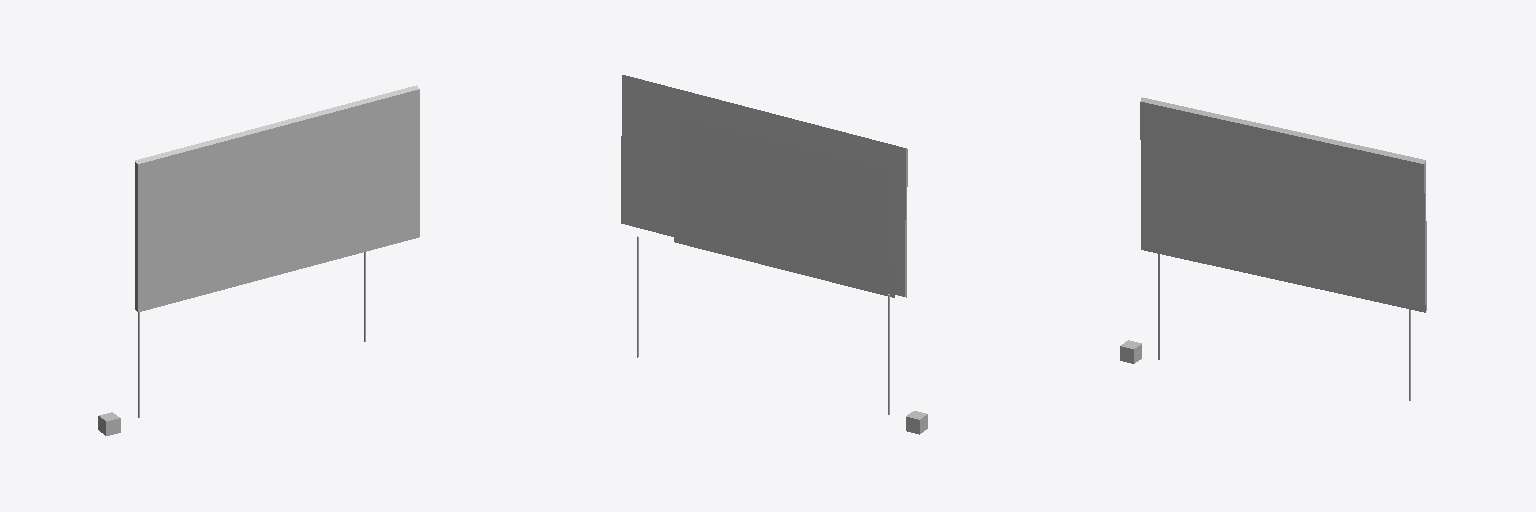
File: s200Sign - copia.obj
The picture shows the model from 3 angles: view 1: azimuth 30°, elevation 25°; view 2: azimuth 150°, elevation 25°; view 3: azimuth 330°, elevation 25°; orthographic projection.
Parts seen in each view (by area): view 1: Cube.002; view 2: Plane, Cube.002; view 3: Cube.002.
Boxes of the visible parts, box(x1,y1,x2,y2) form: Cube.002: box(135, 85, 419, 311); Plane: box(674, 114, 894, 297); Cube.002: box(621, 75, 907, 297); Cube.002: box(1140, 97, 1426, 312).
Bounding box in the file's own units: 43.97 × 37.66 × 5.31.